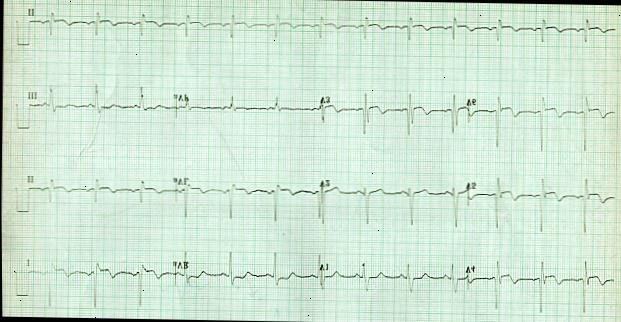Lead_I: (21, 243, 173, 312)
Lead_II: (24, 159, 172, 221)
Lead_III: (23, 74, 174, 138)
Lead_II_ext: (22, 1, 619, 62)
Lead_V1: (315, 244, 463, 314)
Lead_V2: (313, 164, 466, 234)
Lead_V3: (314, 85, 465, 148)
Lead_V4: (459, 249, 618, 320)
Lead_V5: (462, 170, 617, 238)
Lead_V6: (463, 78, 619, 160)
Lead_aVF: (172, 77, 317, 146)
Lead_aVL: (169, 160, 317, 228)
Lead_aVR: (169, 240, 317, 318)
